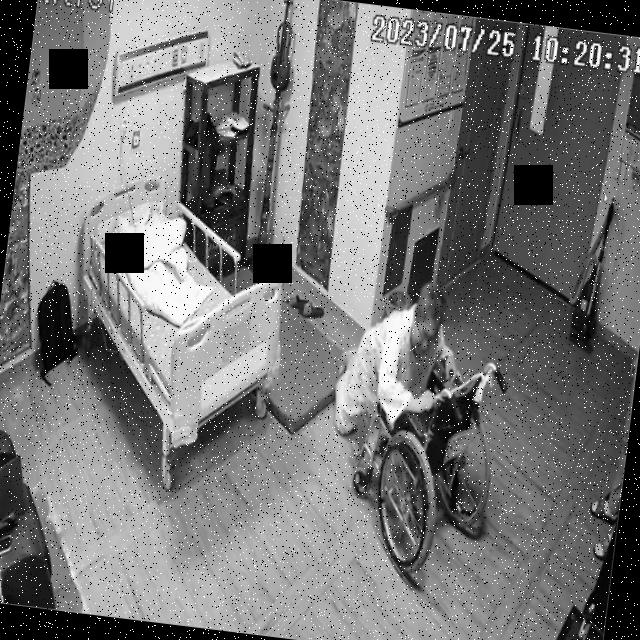fall: (329, 274, 473, 446)
patient: (329, 274, 473, 446)
wheelchair: (342, 349, 512, 586)
